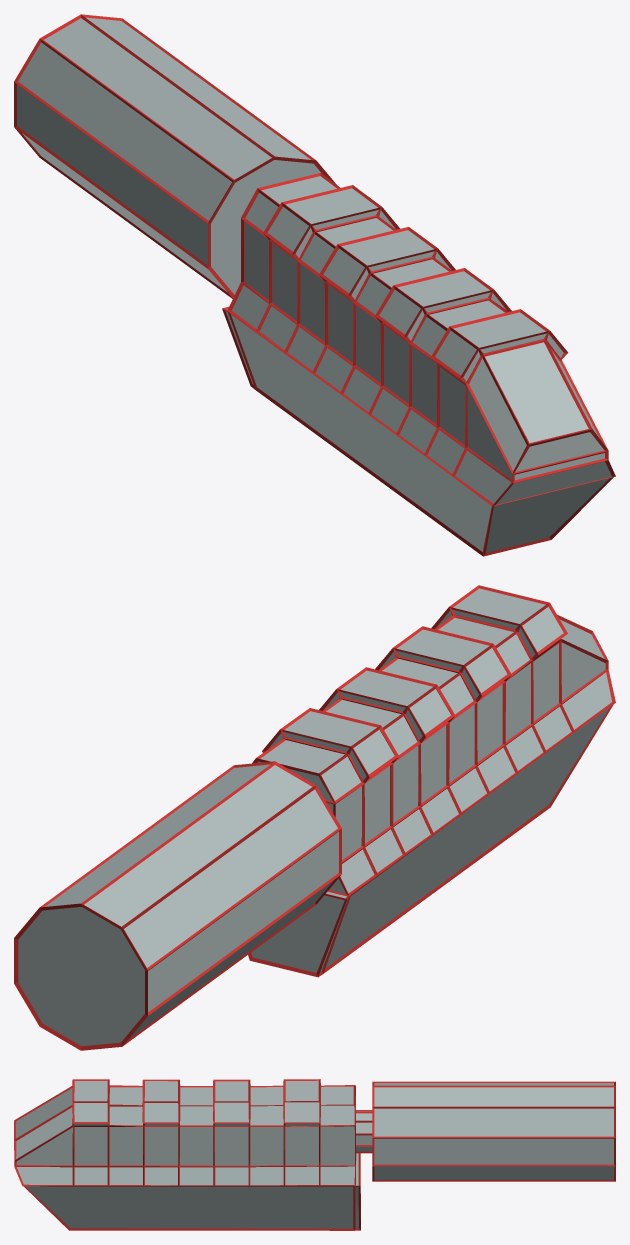
3 views of the same model, one above another, from view 1: azimuth 30°, elevation 25°; view 2: azimuth 150°, elevation 25°; view 3: azimuth 270°, elevation 25° (orthographic). The views are drawn at different scales.
Parts seen in each view (by area): view 1: Cube_000, Cylinder_000, Cube_001, Cube; view 2: Cylinder_000, Cube_000, Cube_001, Cube; view 3: Cube_000, Cylinder_000, Cube, Cube_001, Cylinder_001.
Boxes of the visible parts, <box> form: Cube_000: <box>232,176,611,504</box>; Cylinder_000: <box>17,17,320,294</box>; Cube_001: <box>14,14,615,556</box>; Cube: <box>225,309,609,552</box>; Cylinder_000: <box>18,764,338,1046</box>; Cube_000: <box>257,588,611,895</box>; Cube_001: <box>14,585,615,1050</box>; Cube: <box>251,707,609,972</box>; Cube_000: <box>16,1080,354,1185</box>; Cylinder_000: <box>374,1083,613,1179</box>; Cube: <box>26,1153,358,1228</box>; Cube_001: <box>14,1079,615,1230</box>; Cylinder_001: <box>356,1111,372,1151</box>.
Bounding box in the file's own units: 0.0637 × 0.396 × 0.0978.
